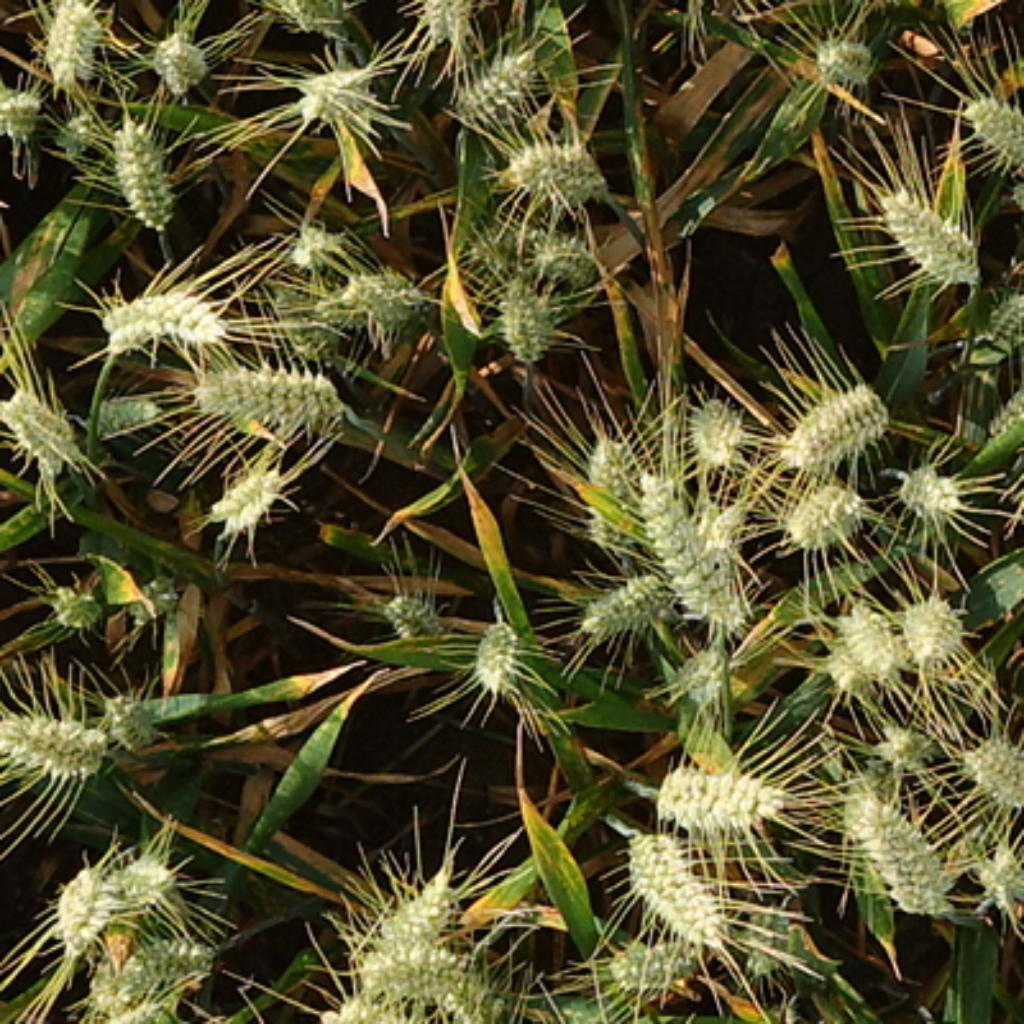0-0: (627, 471, 752, 624), (834, 775, 954, 913), (360, 849, 465, 990), (870, 168, 988, 284), (196, 356, 357, 441), (624, 828, 737, 946), (642, 744, 791, 829), (773, 366, 896, 465), (89, 286, 234, 366), (340, 934, 501, 998), (83, 927, 214, 1001), (99, 107, 181, 225), (576, 422, 645, 560), (322, 253, 435, 335), (2, 693, 110, 778), (463, 220, 606, 284), (499, 120, 611, 199), (819, 591, 906, 688), (48, 865, 135, 960), (2, 373, 84, 468), (448, 35, 542, 117), (578, 558, 673, 634), (599, 924, 706, 988), (775, 468, 867, 542), (256, 286, 343, 363), (84, 842, 181, 911), (294, 46, 384, 120), (491, 266, 565, 355), (465, 606, 531, 702), (206, 462, 288, 539), (967, 340, 1024, 450), (890, 435, 965, 517), (893, 586, 970, 665), (957, 724, 1024, 814), (35, 0, 107, 79), (960, 76, 1024, 163), (737, 901, 801, 985), (665, 634, 739, 704), (143, 15, 212, 89), (683, 384, 747, 463), (375, 587, 455, 648), (97, 675, 166, 742), (309, 990, 444, 1024), (806, 23, 880, 81), (43, 568, 112, 627), (870, 709, 936, 768), (970, 834, 1024, 903), (279, 207, 345, 263), (128, 568, 184, 634), (87, 381, 158, 430), (437, 977, 506, 1024), (972, 276, 1024, 337), (814, 645, 872, 698), (2, 74, 48, 135), (407, 0, 483, 35), (261, 0, 355, 28), (48, 99, 99, 148), (99, 998, 181, 1024), (1021, 409, 1024, 473), (35, 0, 115, 2)
